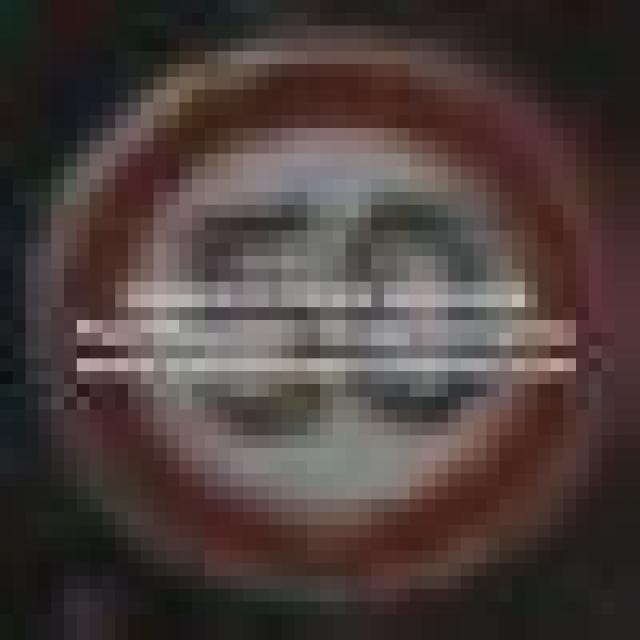SPEED_LIMIT_50: (51, 39, 589, 602)
